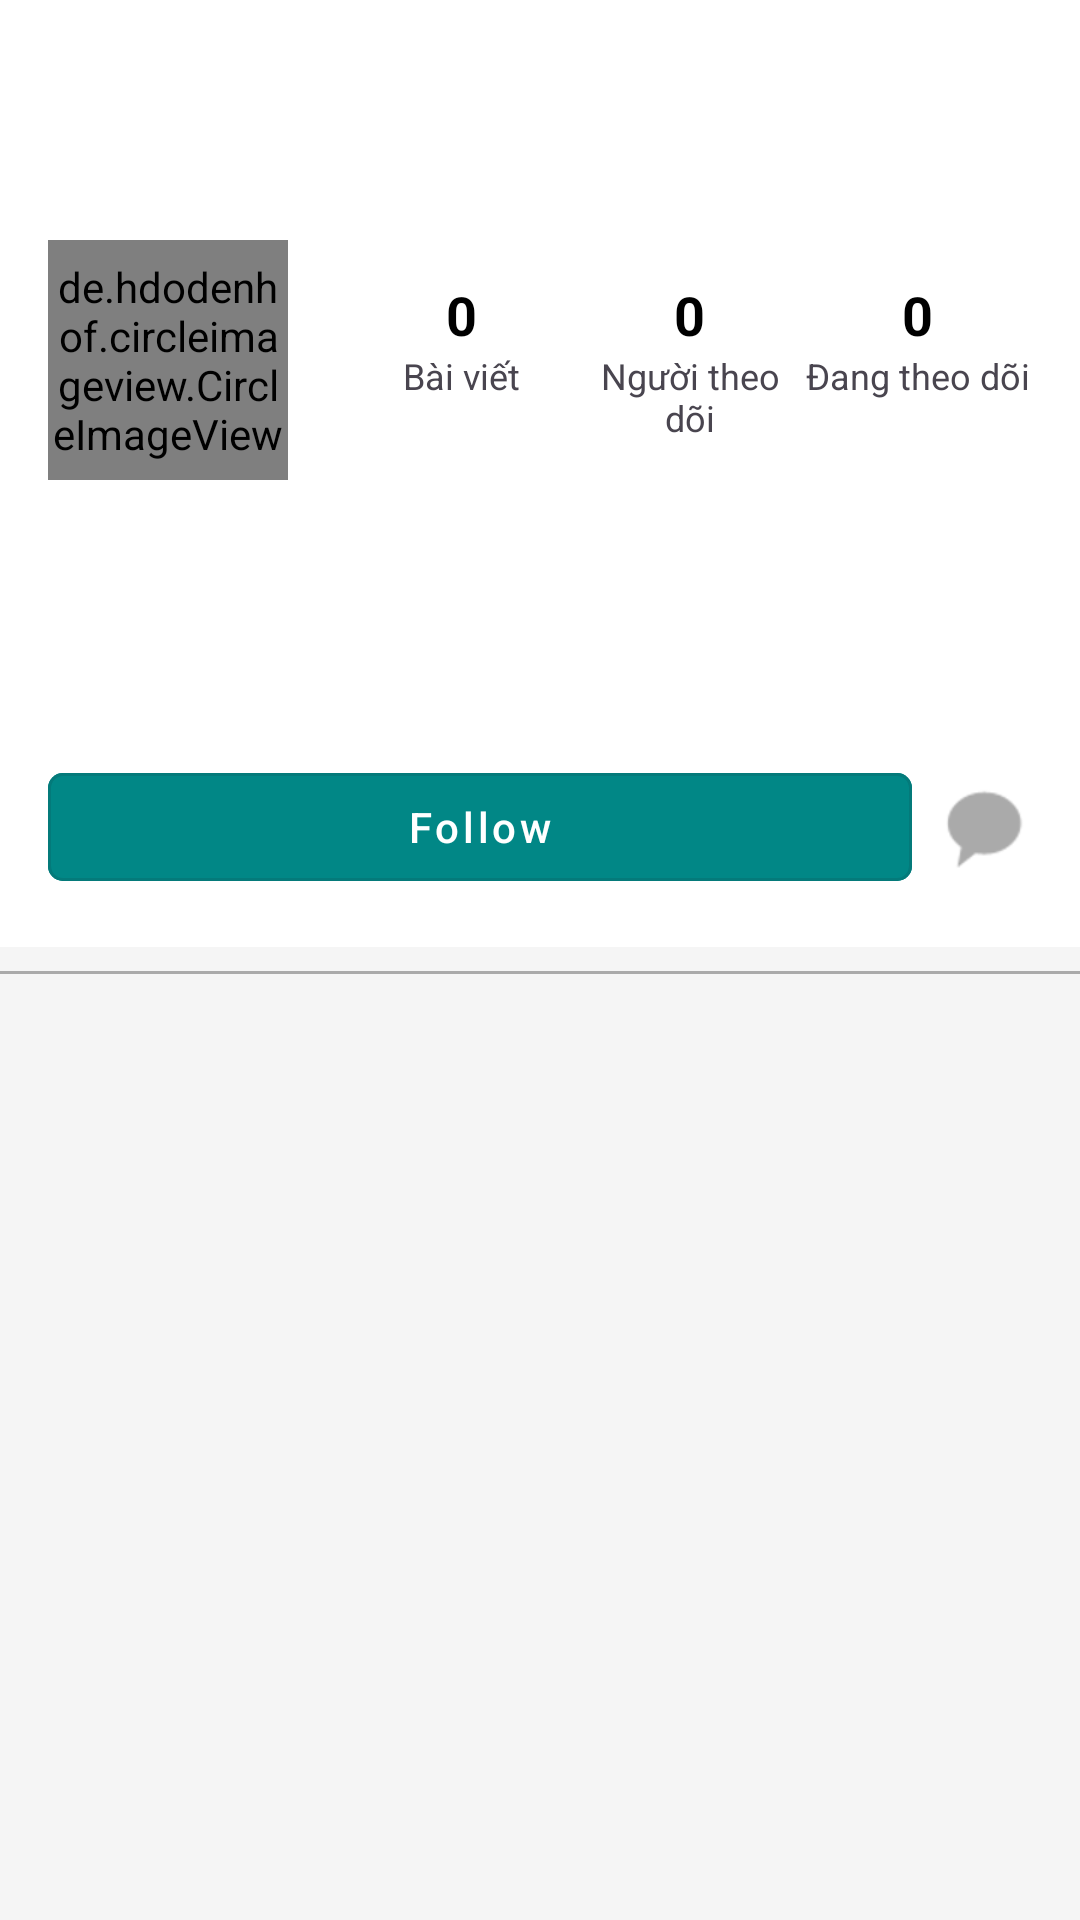

Where icons sit on this 1080px x 1920px app screen, as (x1, y1, x2, y2):
Chat with user: (947, 792, 1022, 867)
